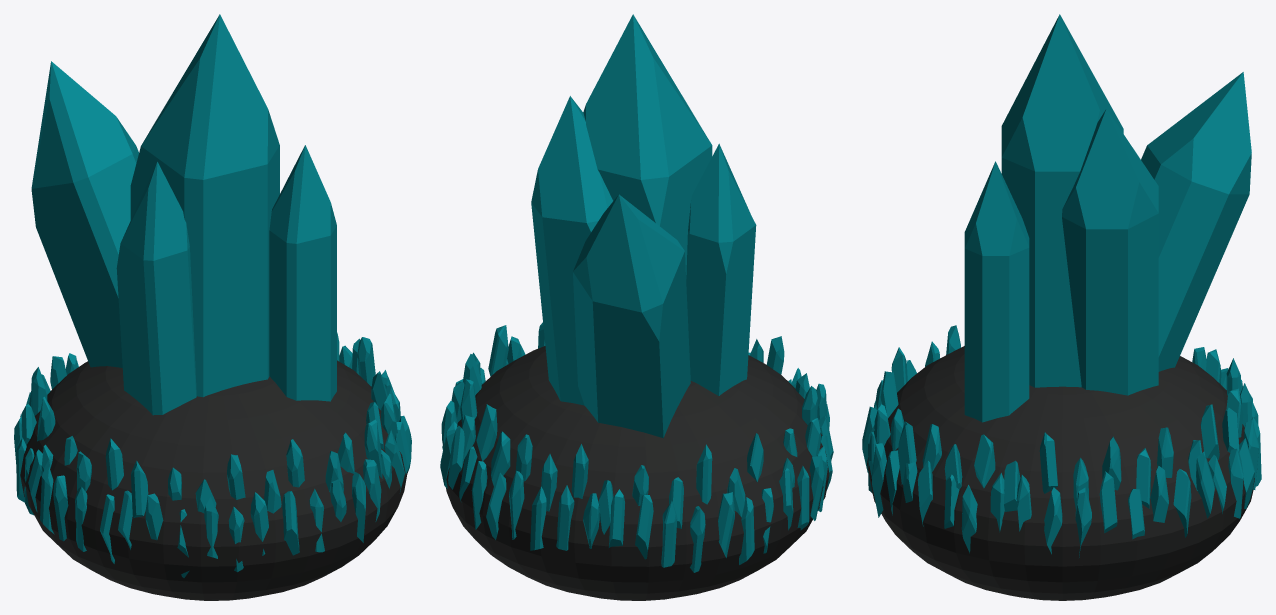
The model's file is Crystal.obj.
3 views of the same model, side by side, from view 1: azimuth 30°, elevation 25°; view 2: azimuth 150°, elevation 25°; view 3: azimuth 270°, elevation 25° (orthographic).
Visible parts, largest first — view 1: Sphere, Cube, Cube.001, Cube.004, Cube.002, Cube.007, Cube.006, Cube.005; view 2: Sphere, Cube.001, Cube, Cube.007, Cube.004, Cube.003, Cube.006, Cube.005; view 3: Sphere, Cube.003, Cube, Cube.001, Cube.002, Cube.007, Cube.006, Cube.005.
Boxes of the visible parts, x1,y1,x2,y2 form: Sphere: (20, 360, 407, 600); Cube: (130, 14, 279, 397); Cube.001: (31, 61, 138, 367); Cube.004: (116, 162, 196, 415); Cube.002: (269, 145, 336, 401); Cube.007: (14, 345, 411, 577); Cube.006: (31, 332, 387, 500); Cube.005: (21, 338, 397, 517); Sphere: (446, 346, 829, 600); Cube.001: (573, 194, 690, 438); Cube: (583, 14, 712, 278); Cube.007: (440, 344, 833, 572); Cube.004: (686, 143, 756, 395); Cube.003: (531, 96, 612, 405); Cube.006: (460, 322, 817, 505); Cube.005: (451, 336, 827, 534); Sphere: (867, 346, 1254, 600); Cube.003: (1062, 109, 1158, 395); Cube: (1001, 14, 1123, 387); Cube.001: (1141, 72, 1251, 371); Cube.002: (964, 161, 1029, 422); Cube.007: (862, 368, 1261, 558); Cube.006: (880, 341, 1243, 493); Cube.005: (874, 325, 1251, 511).
Size of the model in its own units: 6.53 by 10.17 by 6.55.
